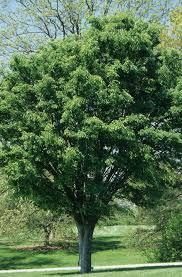tree: (3, 15, 182, 274)
